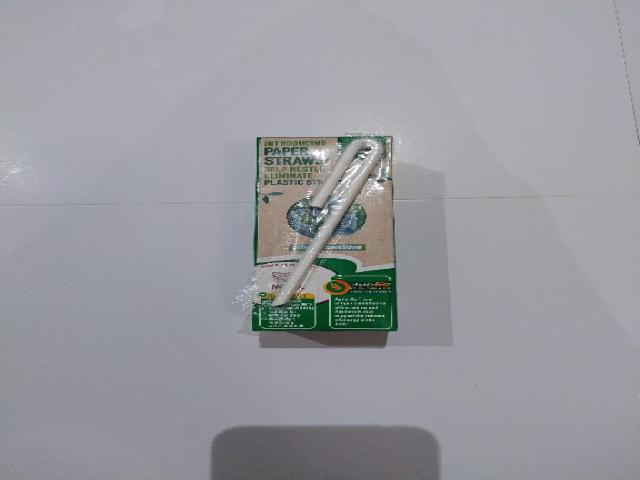drink_box: (241, 132, 403, 333)
